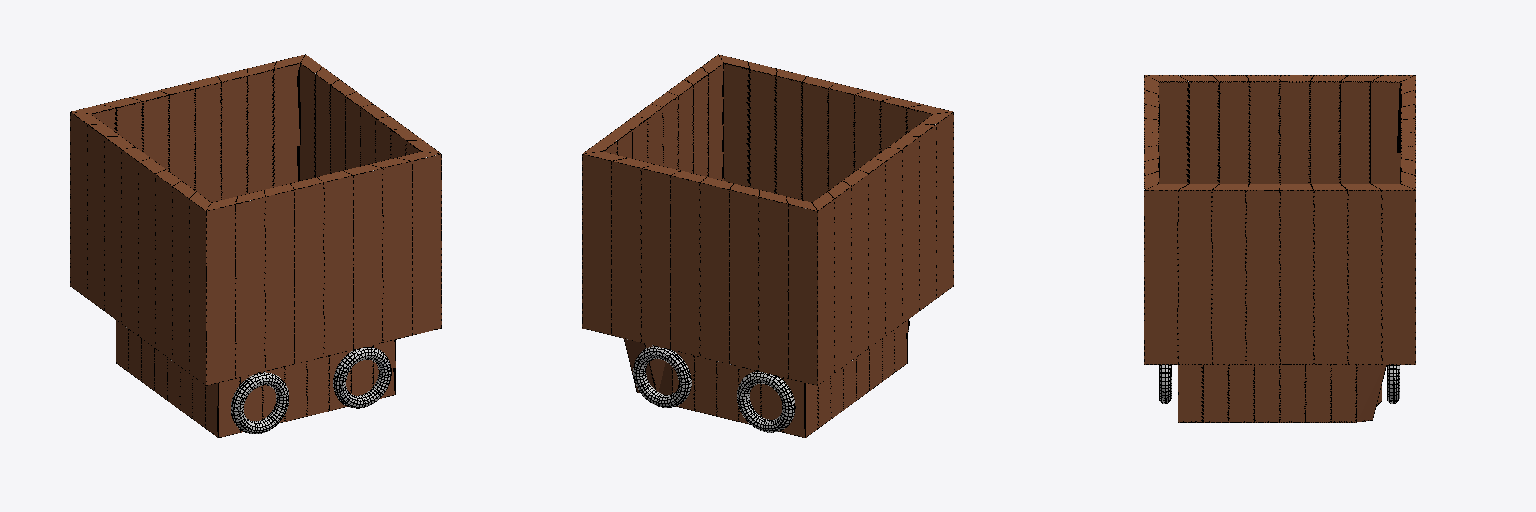
3 renders of one model, left to right at view 1: azimuth 30°, elevation 25°; view 2: azimuth 150°, elevation 25°; view 3: azimuth 270°, elevation 25°, orthographic.
Parts seen in each view (by area): view 1: cart_Cube; view 2: cart_Cube; view 3: cart_Cube.
Boxes of the visible parts, x1,y1,x2,y2 form: cart_Cube: [70, 54, 441, 437]; cart_Cube: [582, 54, 953, 437]; cart_Cube: [1144, 75, 1415, 422].
Bounding box in the file's own units: 2 × 2 × 2.
Materials: 1 (1 with a texture image).